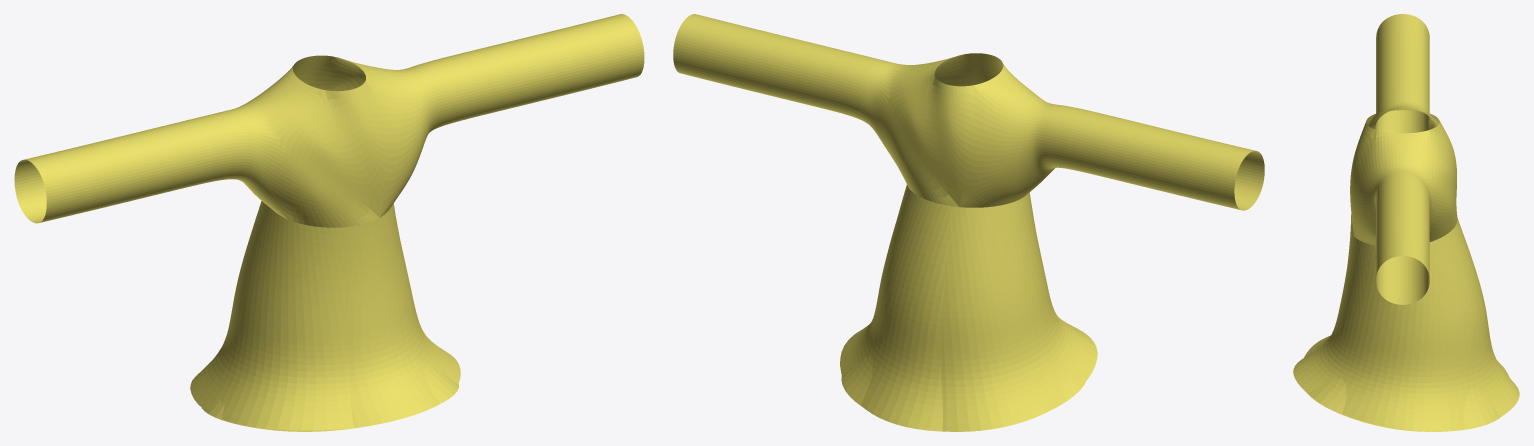
File: clothes_model_2.gltf
3 renders of one model, left to right at view 1: azimuth 30°, elevation 25°; view 2: azimuth 150°, elevation 25°; view 3: azimuth 270°, elevation 25°, orthographic. The views are drawn at different scales.
Parts seen in each view (by area): view 1: clothes; view 2: clothes; view 3: clothes.
Boxes of the visible parts, bbox=[...] form: clothes: bbox=[14, 14, 644, 431]; clothes: bbox=[673, 14, 1264, 431]; clothes: bbox=[1293, 14, 1519, 431].
Bounding box in the file's own units: 2.52 × 1.34 × 0.9955.
